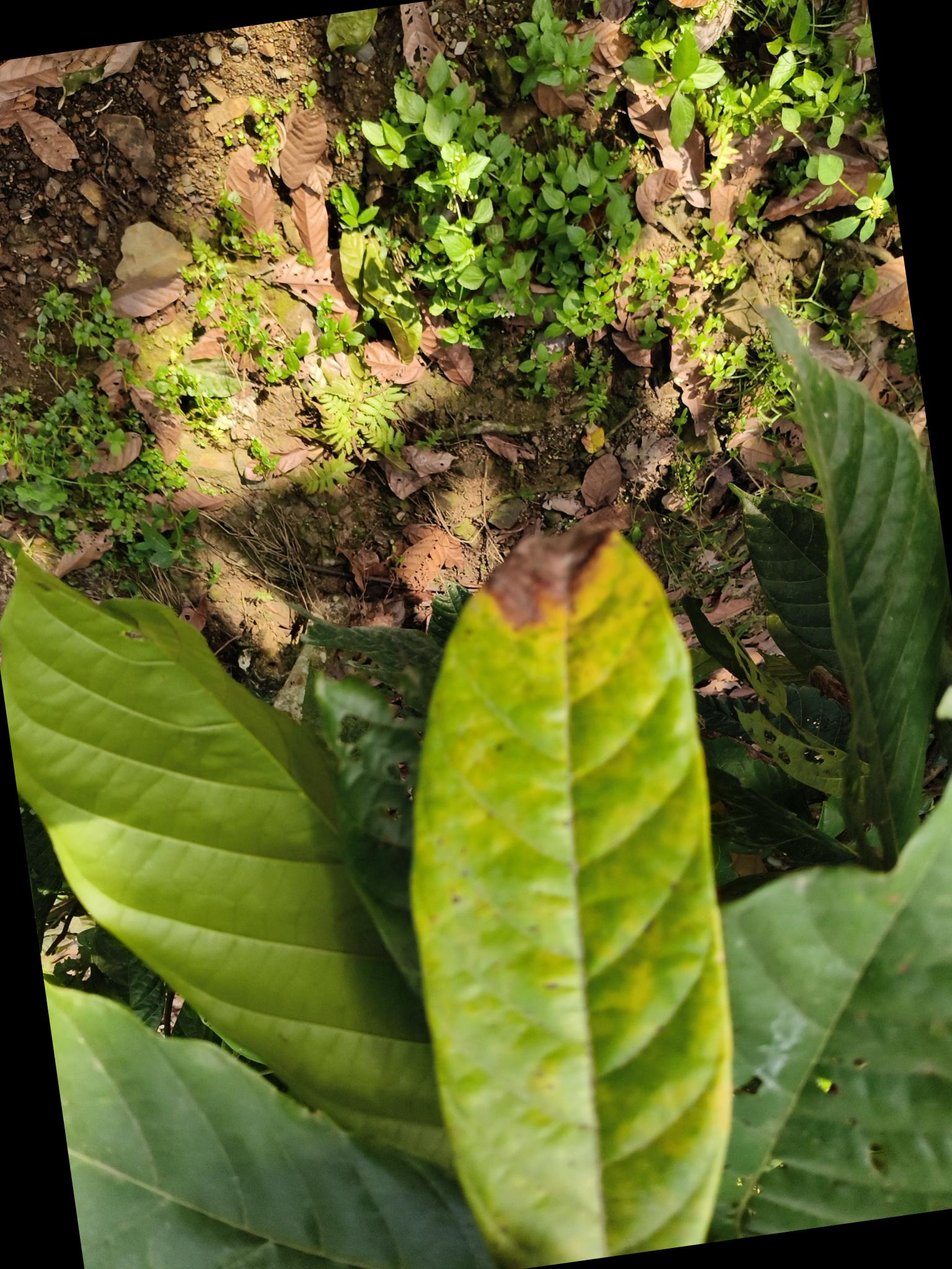Fosforo: (408, 511, 729, 1269)
